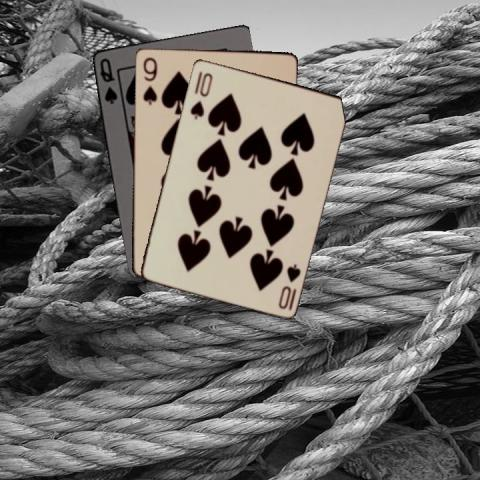10s: (187, 70, 214, 120), (275, 261, 302, 310)
9s: (139, 54, 158, 106)
Qs: (96, 55, 119, 105)
